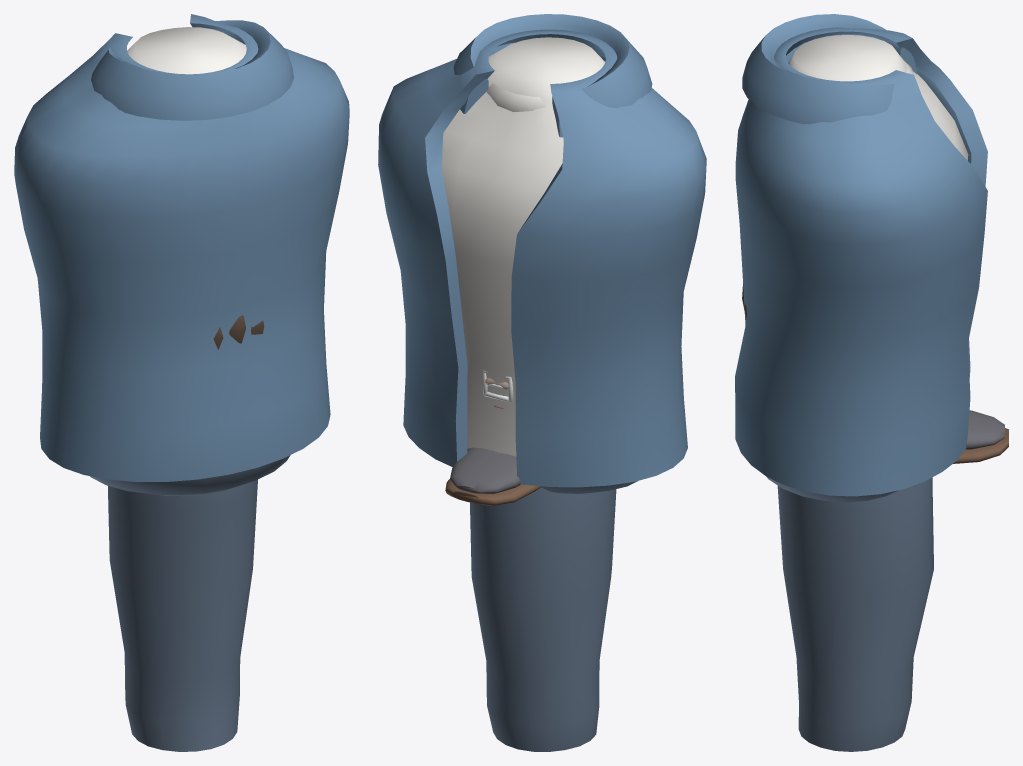
Rendered from Character_ElderMale.fbx.
3 renders of one model, left to right at view 1: azimuth 30°, elevation 25°; view 2: azimuth 150°, elevation 25°; view 3: azimuth 270°, elevation 25°, orthographic. The views are drawn at different scales.
Visible parts, largest first — view 1: Part_Chest, Part_L_Thigh, Part_Pelvis, Part_Head; view 2: Part_Chest, Part_L_Thigh, Part_L_Foot, Part_Pelvis; view 3: Part_Chest, Part_L_Thigh, Part_L_Foot, Part_Pelvis.
Part boxes in pixels (<box>): Part_Chest: <box>14,14,349,481</box>; Part_L_Thigh: <box>108,479,257,751</box>; Part_Pelvis: <box>90,455,290,496</box>; Part_Head: <box>213,315,264,349</box>; Part_Chest: <box>378,14,706,487</box>; Part_L_Thigh: <box>470,487,616,751</box>; Part_L_Foot: <box>445,447,541,505</box>; Part_Pelvis: <box>483,370,637,494</box>; Part_Chest: <box>735,14,987,496</box>; Part_L_Thigh: <box>777,477,933,751</box>; Part_L_Foot: <box>953,410,1008,463</box>; Part_Pelvis: <box>766,476,898,502</box>.
Bounding box in the file's own units: 0.4585 × 0.972 × 0.3523.
